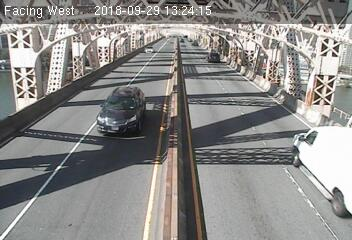car: (285, 120, 352, 225), (96, 84, 146, 140), (205, 51, 222, 65), (142, 42, 156, 54)
